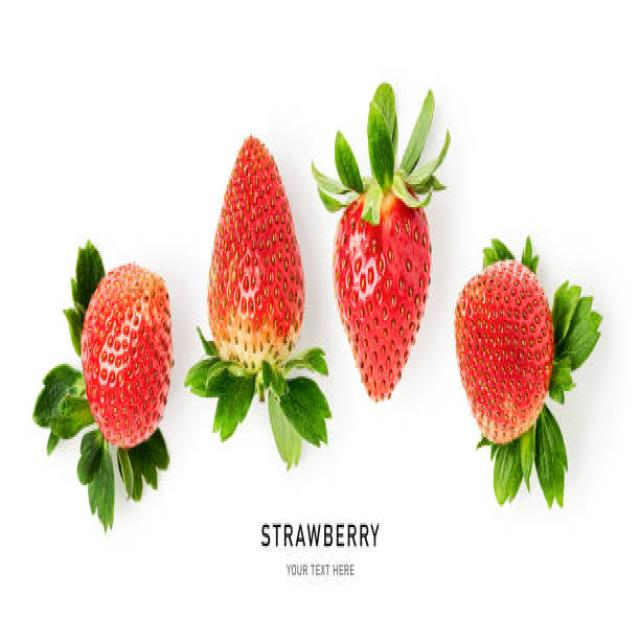Healthy Fruit: (207, 137, 305, 375), (332, 184, 431, 404), (455, 260, 554, 443), (81, 263, 172, 449)
